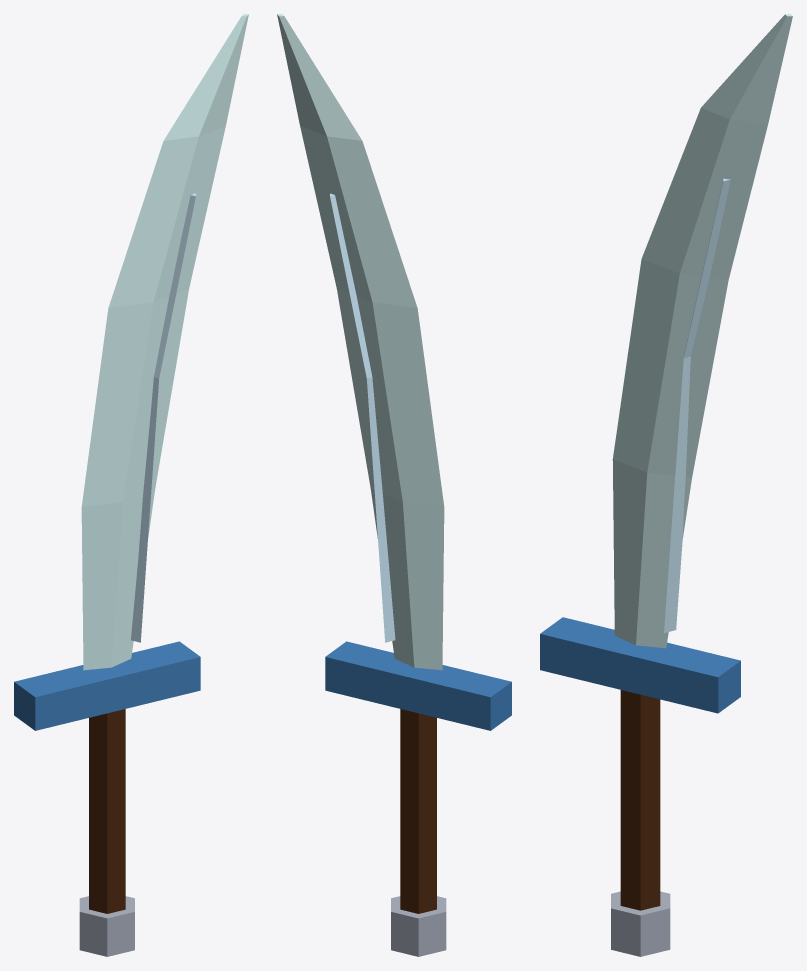
The model's file is wpn_melee_1h_7.glb.
The picture shows the model from 3 angles, left to right: view 1: azimuth 30°, elevation 25°; view 2: azimuth 150°, elevation 25°; view 3: azimuth 330°, elevation 25°; orthographic projection. The views are drawn at different scales.
Visible parts, largest first — view 1: wpn_melee_1h_7; view 2: wpn_melee_1h_7; view 3: wpn_melee_1h_7.
Boxes of the visible parts, x1,y1,x2,y2 form: wpn_melee_1h_7: (14, 14, 248, 956); wpn_melee_1h_7: (277, 14, 511, 956); wpn_melee_1h_7: (540, 14, 792, 956).
Bounding box in the file's own units: 0.244 × 0.93 × 0.052.
